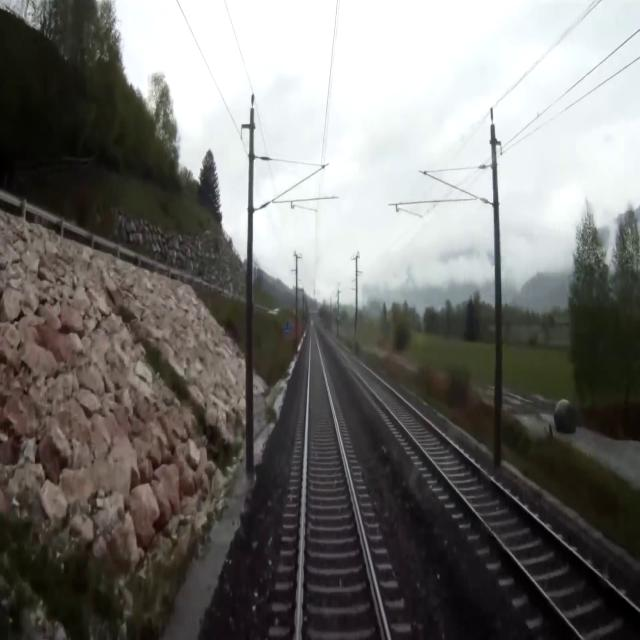rail-track: (330, 336, 638, 637), (300, 327, 387, 639)
